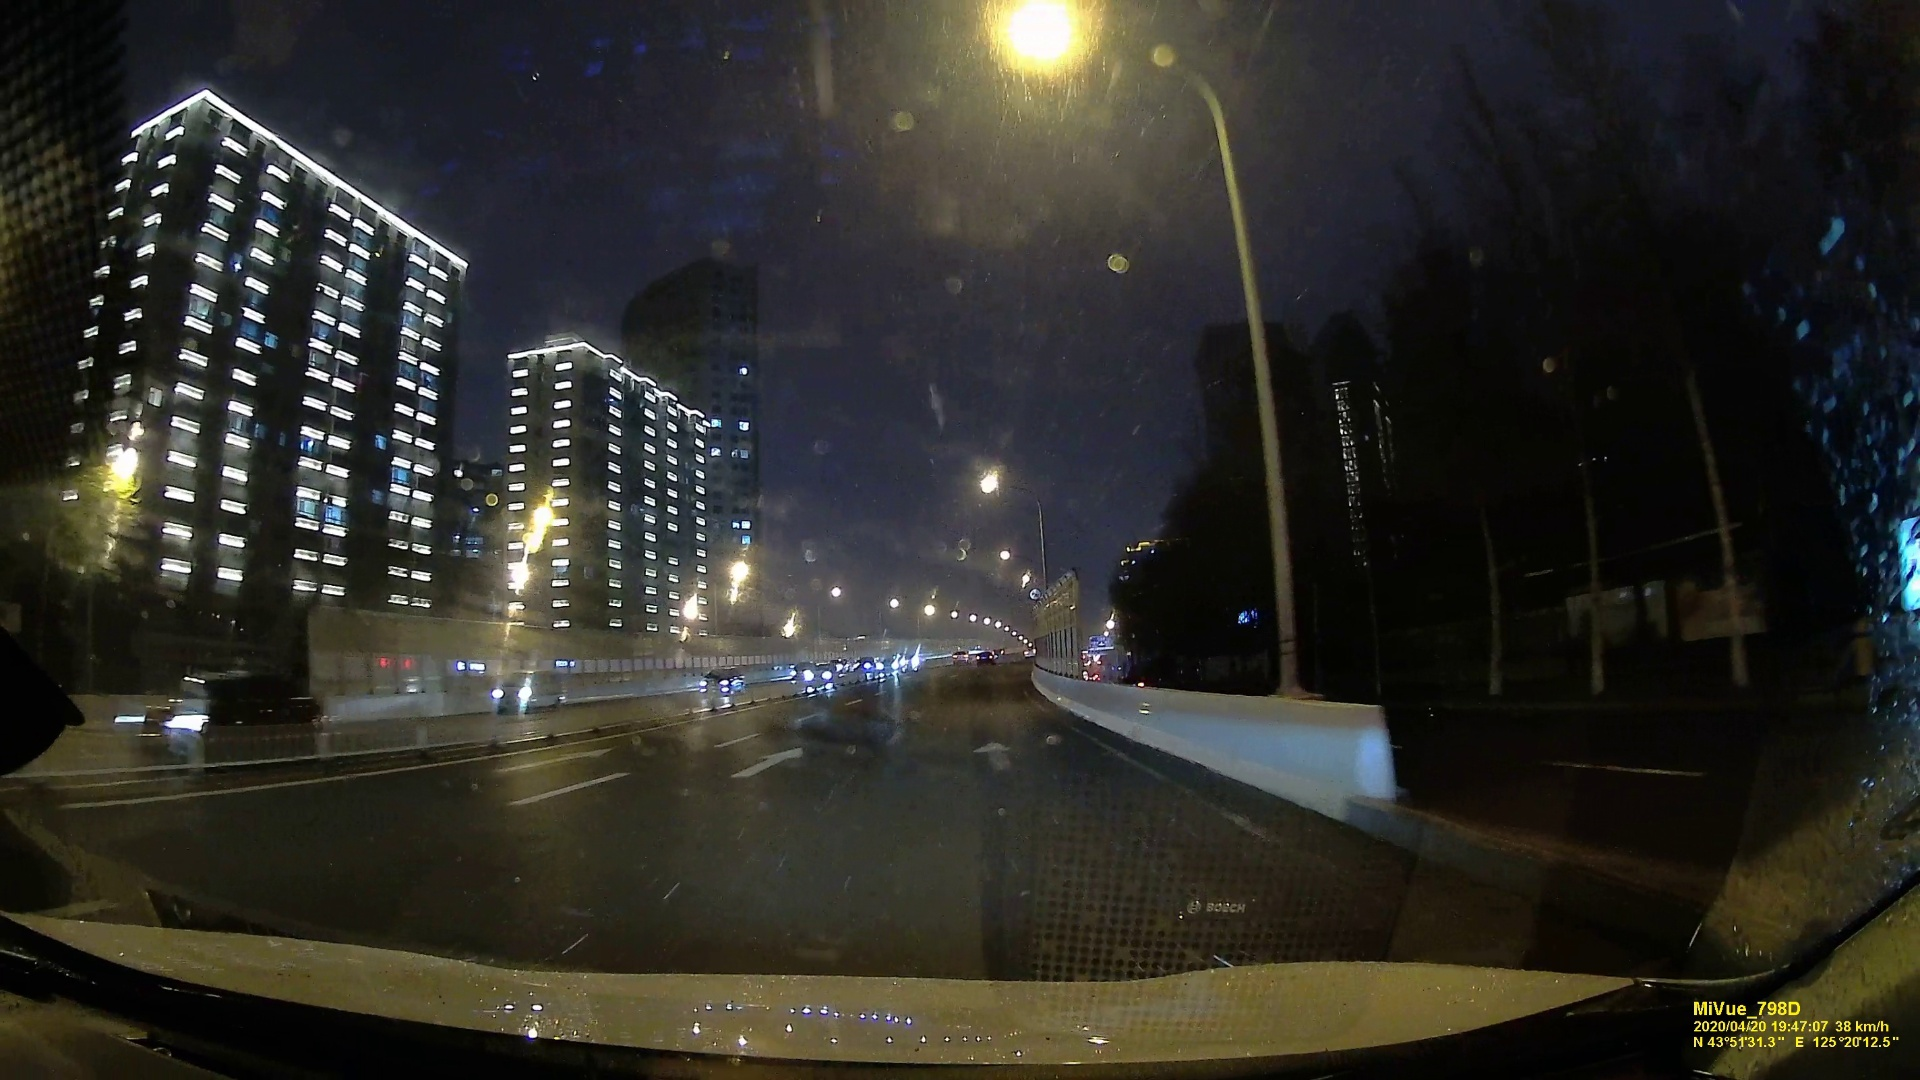vehicle: (116, 673, 332, 766), (484, 673, 566, 713), (698, 669, 746, 694), (976, 650, 996, 666)
